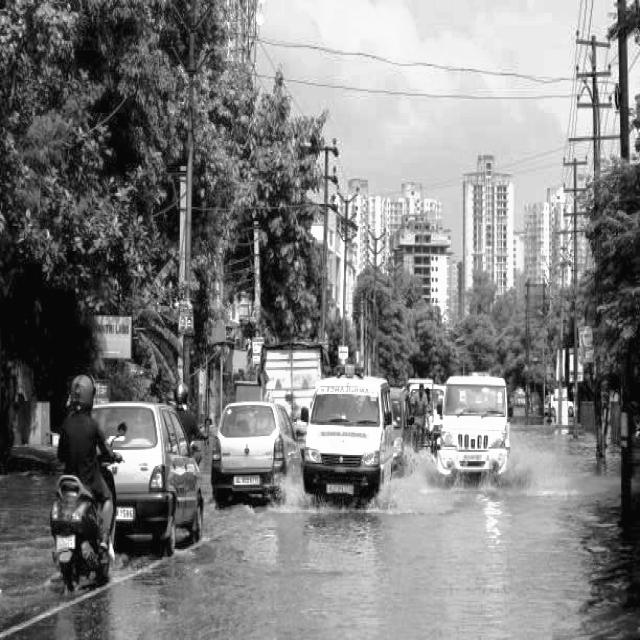Ambulance: (301, 358, 388, 508), (321, 380, 377, 402)
